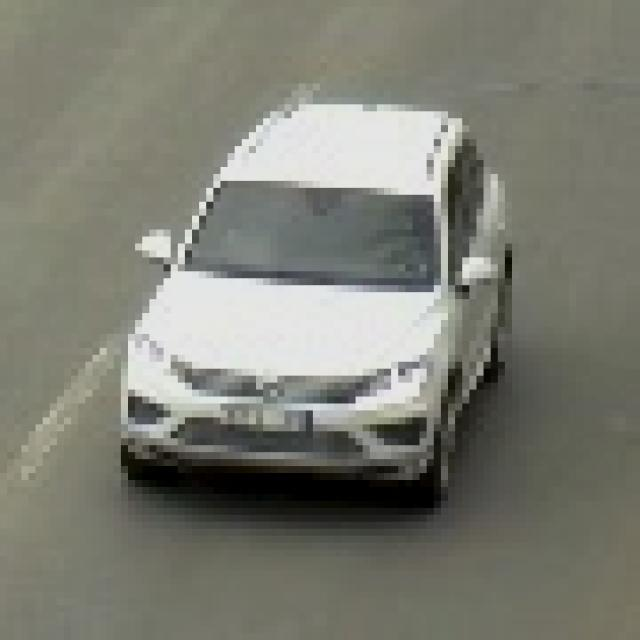SUV: (127, 109, 505, 479)
